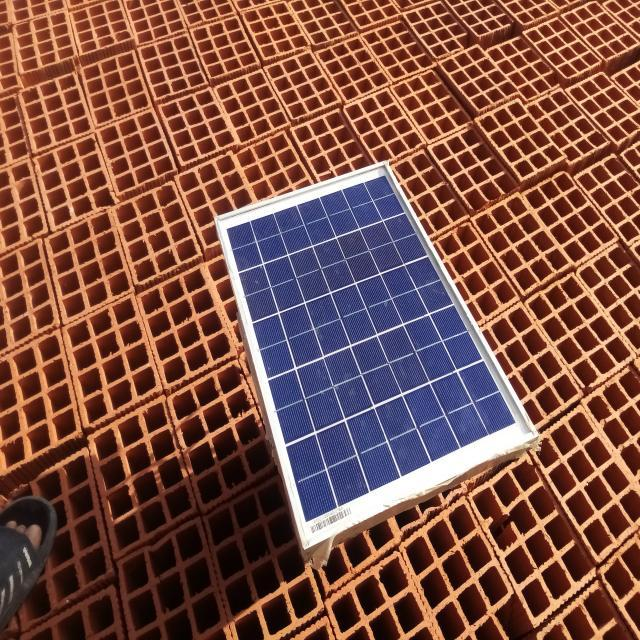no faulty: (217, 162, 537, 546)
